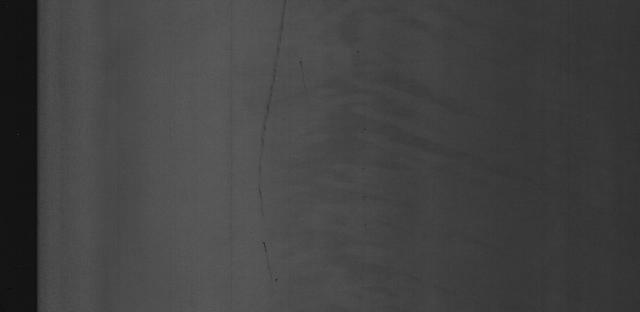inclusion: (249, 1, 289, 283)
